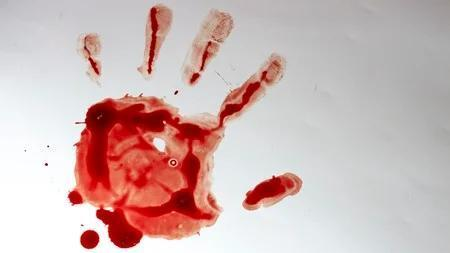Fire: (68, 33, 303, 249), (182, 9, 234, 88), (137, 5, 172, 81)
